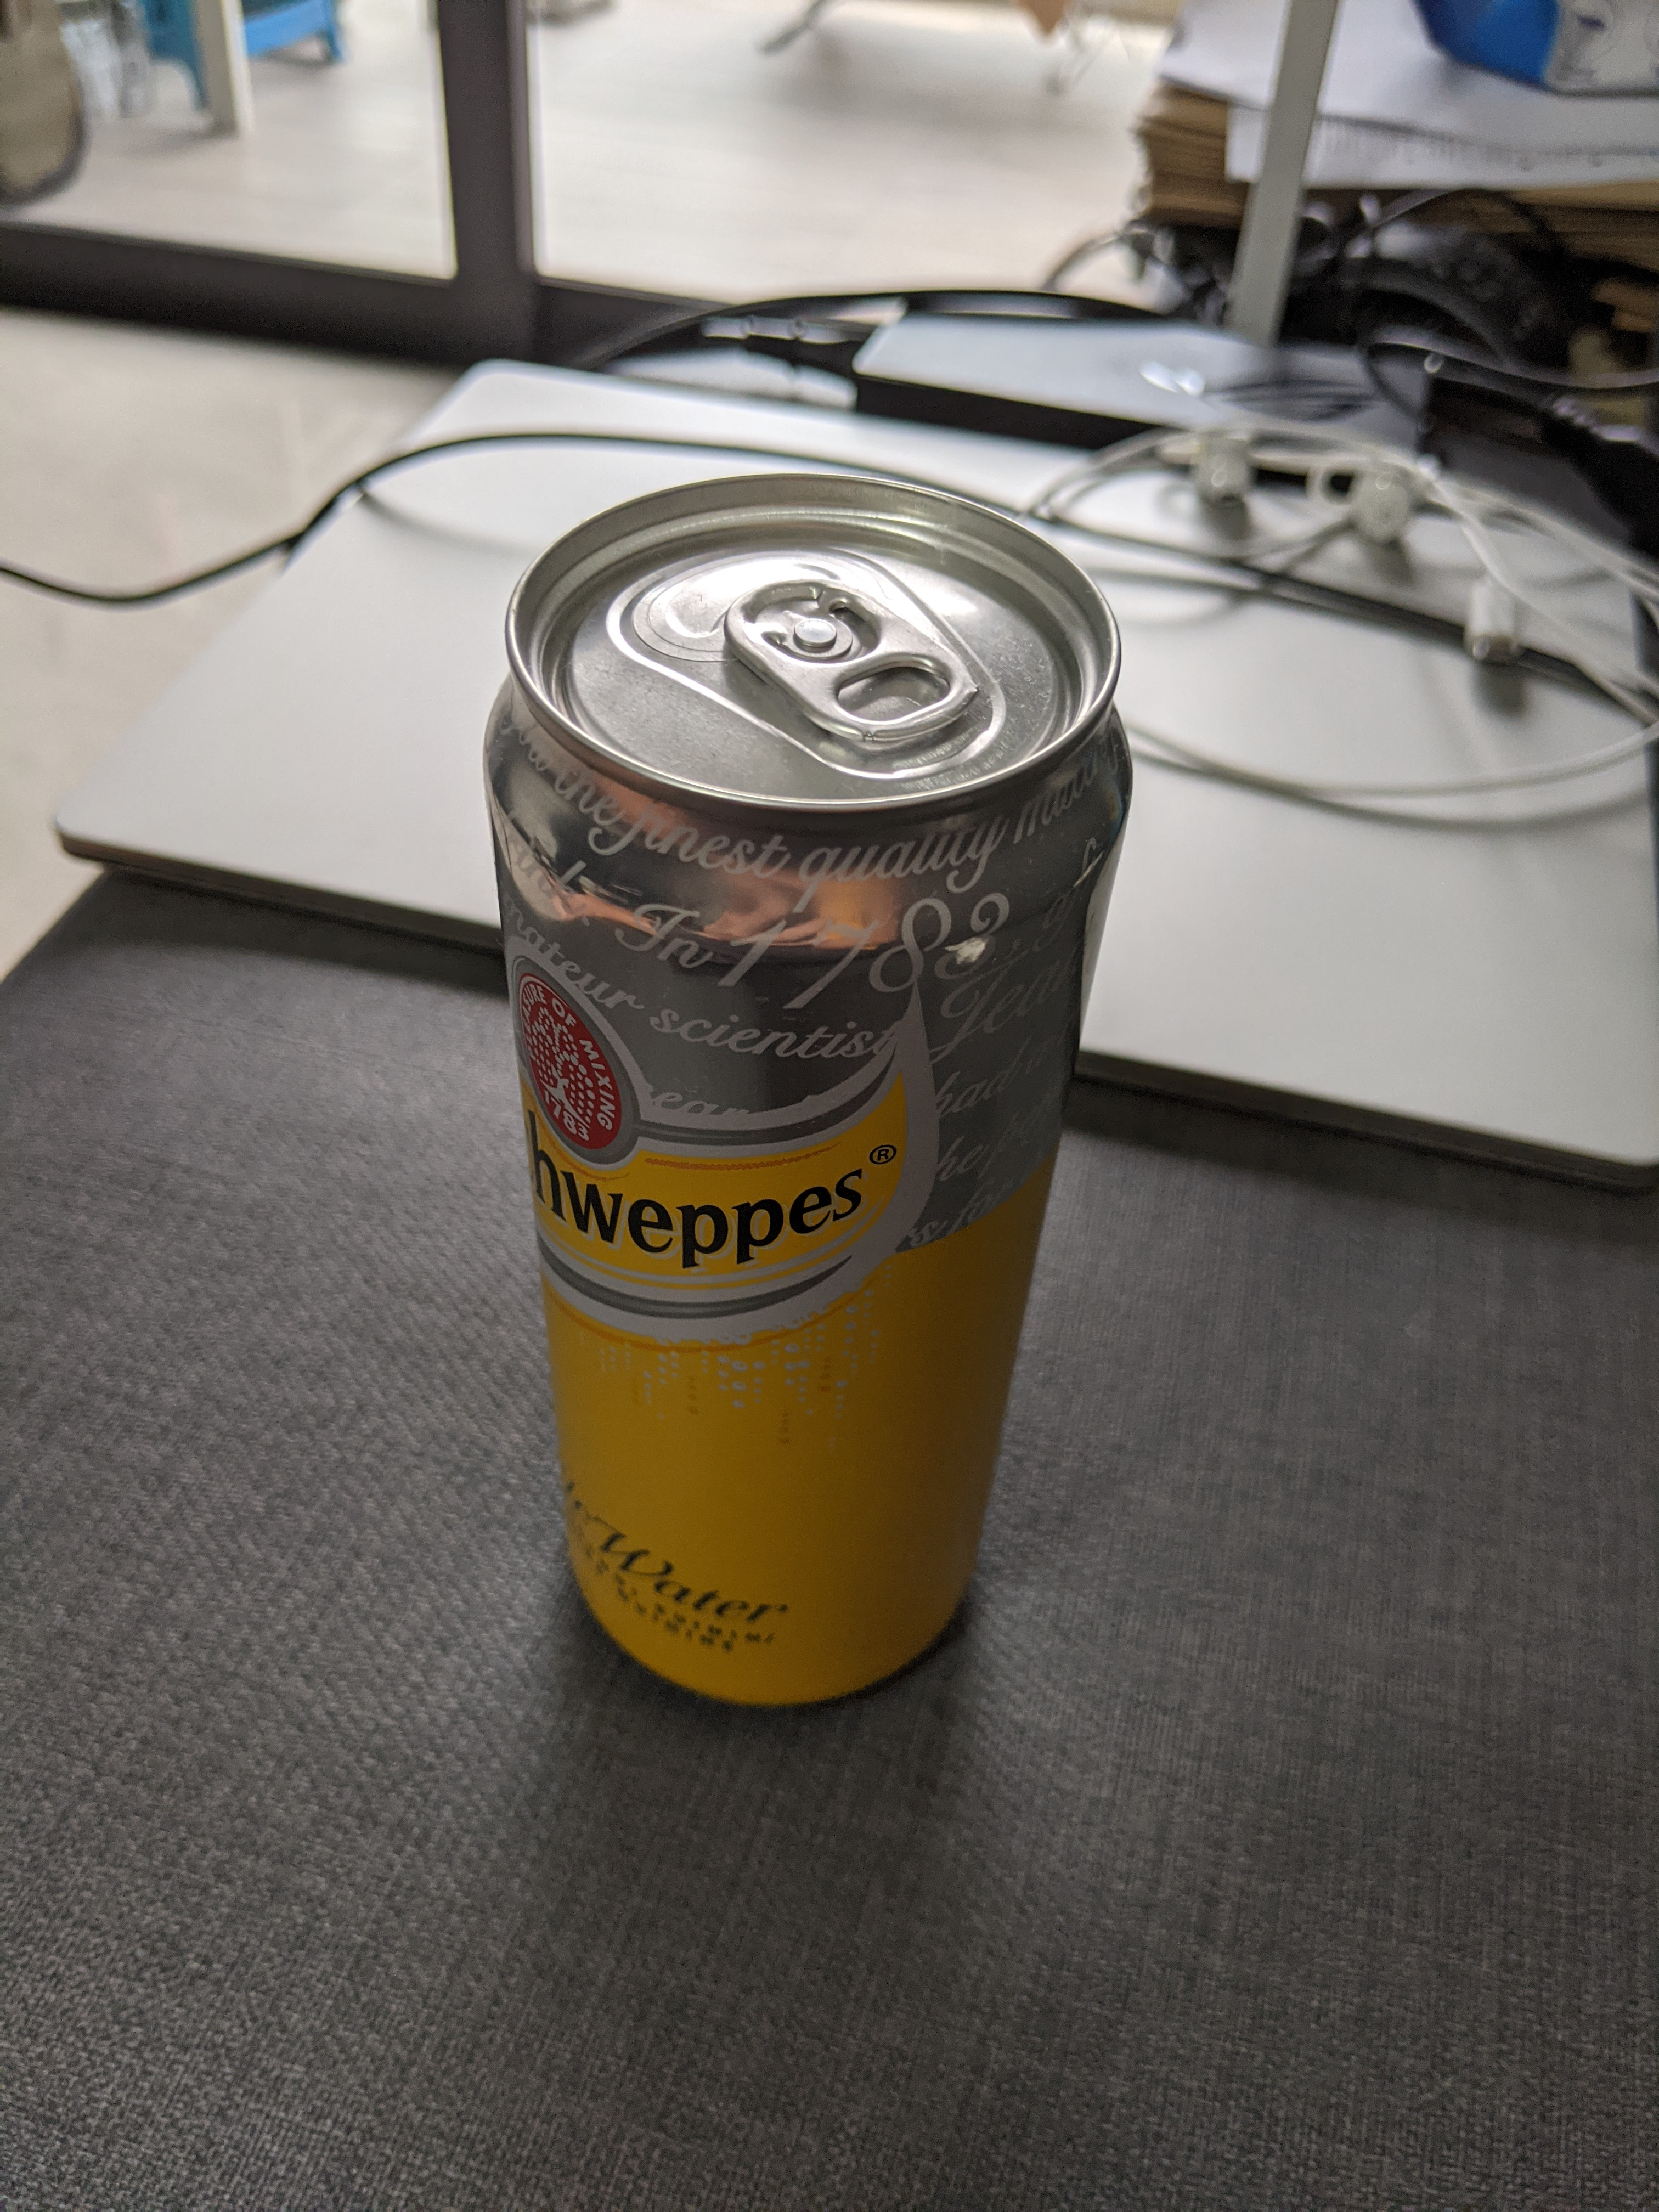schweppes drink can tonic water: (457, 441, 1155, 1759)
